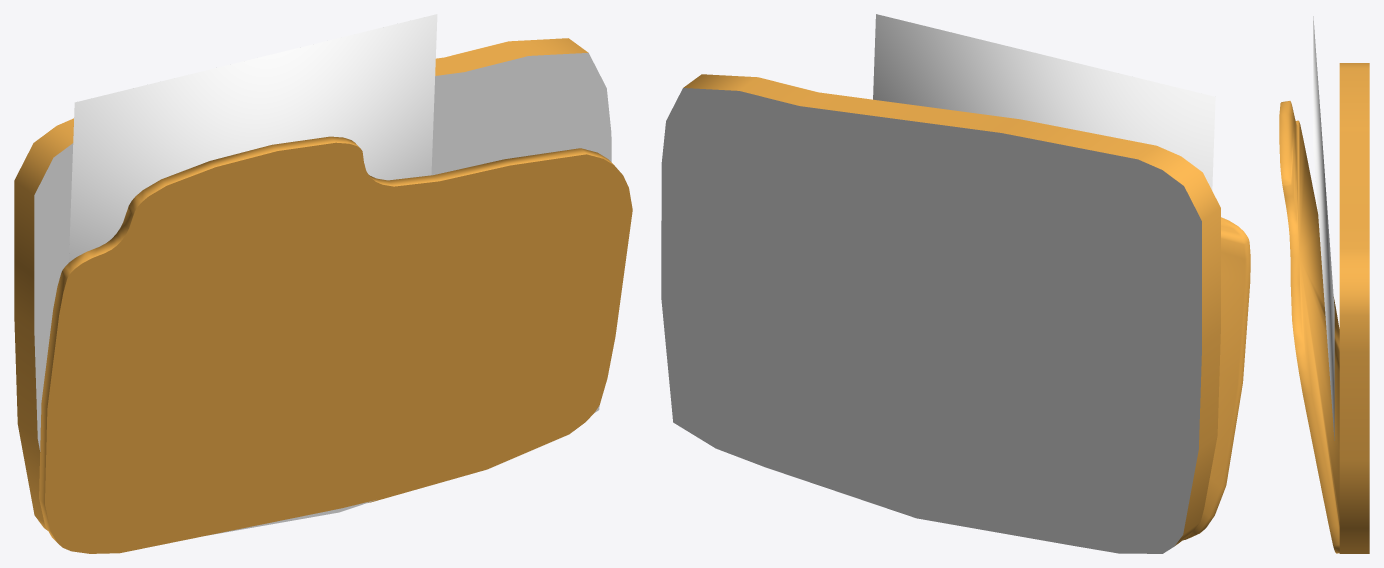
Rendered from 3D Packet.fbx.
3 views of the same model, side by side, from view 1: azimuth 30°, elevation 25°; view 2: azimuth 150°, elevation 25°; view 3: azimuth 270°, elevation 25° (orthographic). The views are drawn at different scales.
Parts seen in each view (by area): view 1: Extrude NURBS.1, Cube, Cap 1, Extrude NURBS; view 2: Cap 2, Cube, Extrude NURBS, Extrude NURBS.1; view 3: Extrude NURBS, Extrude NURBS.1, Cube.
Part boxes in pixels (box(x1,y1,x2,y2)): Extrude NURBS.1: box(39, 136, 632, 553); Cube: box(68, 14, 437, 262); Cap 1: box(34, 53, 611, 535); Extrude NURBS: box(14, 38, 588, 530); Cap 2: box(661, 88, 1201, 553); Cube: box(873, 14, 1215, 190); Extrude NURBS: box(683, 74, 1220, 546); Extrude NURBS.1: box(1183, 217, 1250, 540); Extrude NURBS: box(1339, 63, 1369, 553); Extrude NURBS.1: box(1279, 101, 1339, 553); Cube: box(1313, 16, 1334, 440).
Bounding box in the file's own units: 336 × 271 × 60.04.
